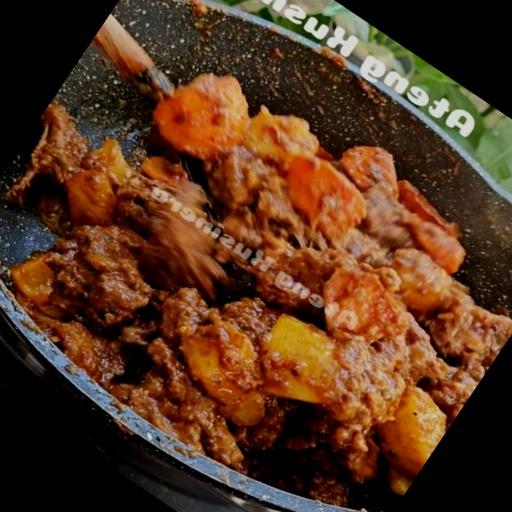pork caldereta: (7, 84, 511, 494)
